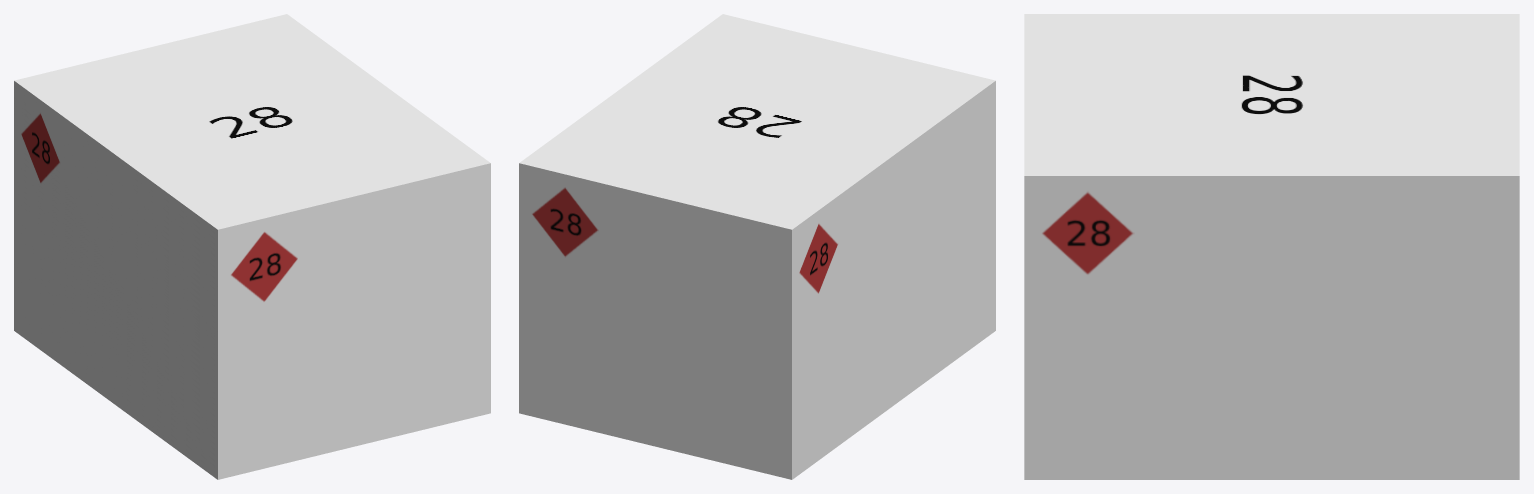
Rendered from Padiglione28.glb.
3 renders of one model, left to right at view 1: azimuth 30°, elevation 25°; view 2: azimuth 150°, elevation 25°; view 3: azimuth 270°, elevation 25°, orthographic. The views are drawn at different scales.
Parts seen in each view (by area): view 1: Padiglione 28; view 2: Padiglione 28; view 3: Padiglione 28.
Part boxes in pixels (x1,y1,x2,y2): Padiglione 28: (14, 14, 490, 479); Padiglione 28: (519, 14, 995, 479); Padiglione 28: (1024, 14, 1519, 479).
Size of the model in its own units: 1.03 by 0.9 by 1.33.
Materials: 1 (1 with a texture image).
